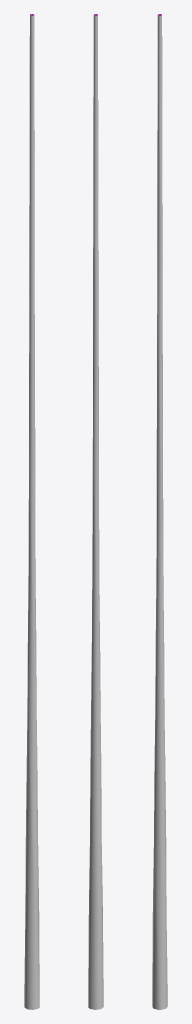
File: env_bosstrain_lavastream02.fbx
The picture shows the model from 3 angles, left to right: view 1: azimuth 90°, elevation 25°; view 2: azimuth 210°, elevation 25°; view 3: azimuth 270°, elevation 25°; orthographic projection.
Visible parts, largest first — view 1: LavaStream_02; view 2: LavaStream_02; view 3: LavaStream_02.
Part boxes in pixels (x1,y1,x2,y2): LavaStream_02: (24, 14, 39, 1009); LavaStream_02: (88, 14, 103, 1009); LavaStream_02: (152, 14, 167, 1009).
Bounding box in the file's own units: 40.72 × 2841 × 40.38.
